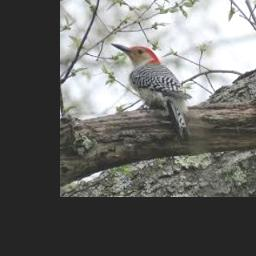Woodpecker: (110, 43, 191, 139)
